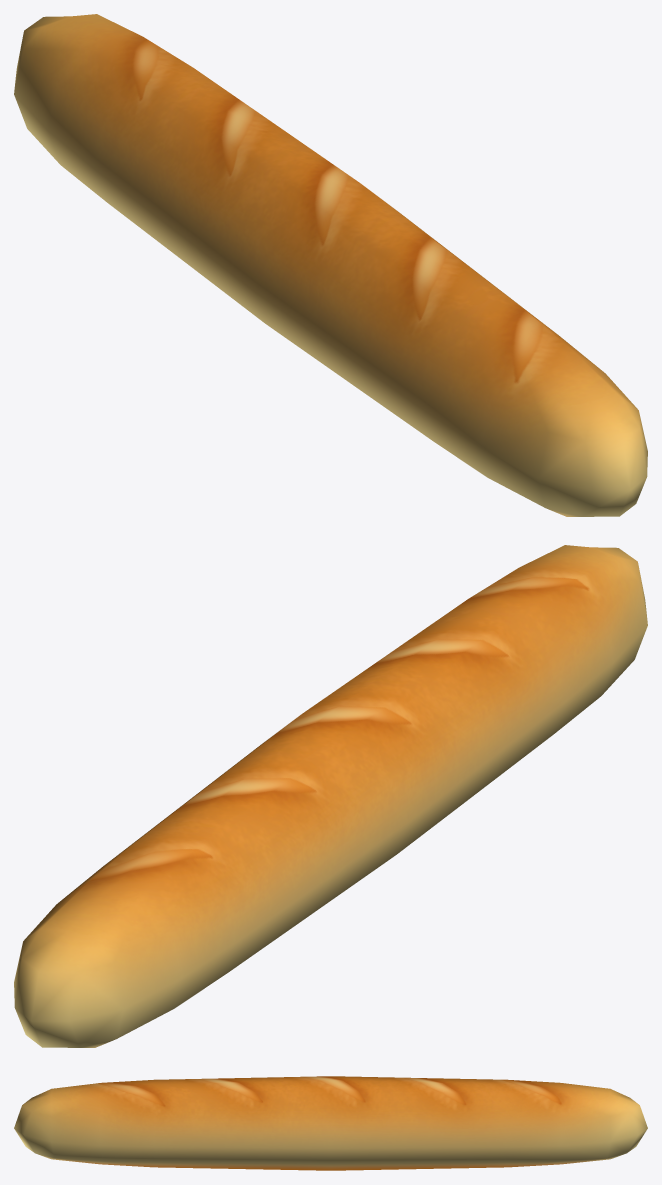
Rendered from Baguette_01.fbx.
3 renders of one model, top to bottom at view 1: azimuth 30°, elevation 25°; view 2: azimuth 150°, elevation 25°; view 3: azimuth 270°, elevation 25°, orthographic. The views are drawn at different scales.
Visible parts, largest first — view 1: Baguette_01; view 2: Baguette_01; view 3: Baguette_01.
Boxes of the visible parts, bbox=[...] form: Baguette_01: bbox=[14, 14, 647, 516]; Baguette_01: bbox=[14, 545, 647, 1047]; Baguette_01: bbox=[14, 1076, 647, 1170].
Bounding box in the file's own units: 20.71 × 20 × 137.
